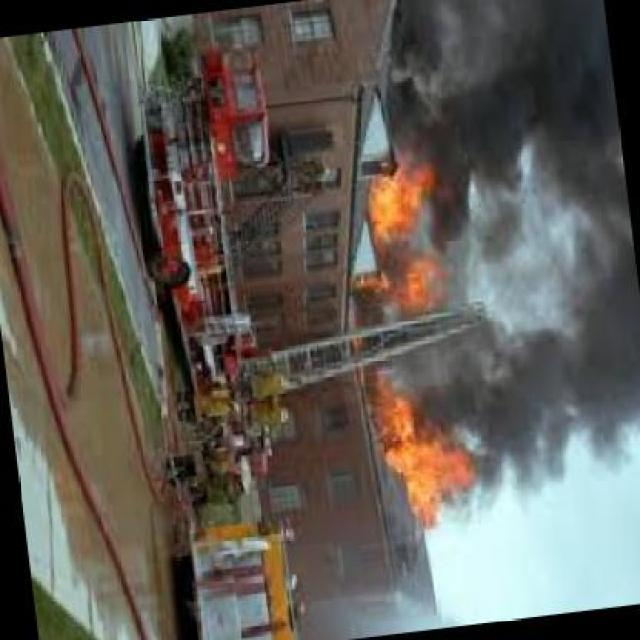Fire: (362, 383, 472, 527), (357, 168, 453, 312)
Smoke: (474, 248, 640, 522), (460, 0, 636, 238), (390, 7, 462, 156)
